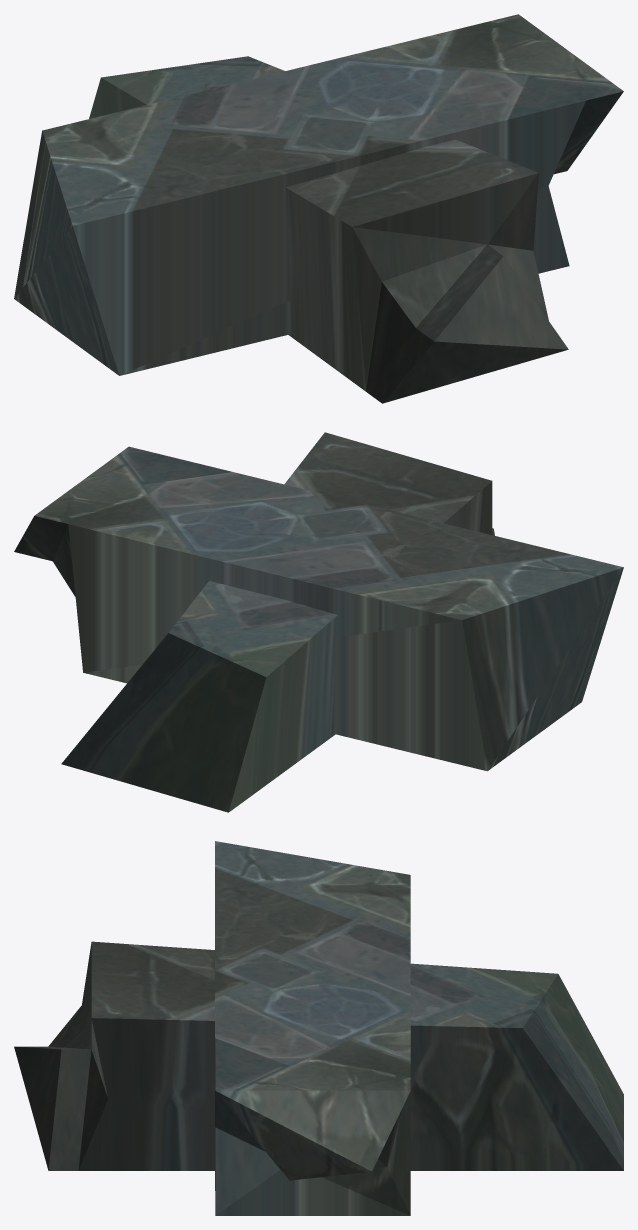
File: fx_rock02.fbx
The picture shows the model from 3 angles, top to bottom: view 1: azimuth 30°, elevation 25°; view 2: azimuth 150°, elevation 25°; view 3: azimuth 270°, elevation 25°; orthographic projection. The views are drawn at different scales.
Parts seen in each view (by area): view 1: polySurface17; view 2: polySurface17; view 3: polySurface17.
Boxes of the visible parts, bbox=[...] form: polySurface17: bbox=[14, 14, 623, 403]; polySurface17: bbox=[14, 432, 623, 812]; polySurface17: bbox=[14, 841, 623, 1215].
Size of the model in its own units: 0.4517 by 0.1233 by 0.4323.
